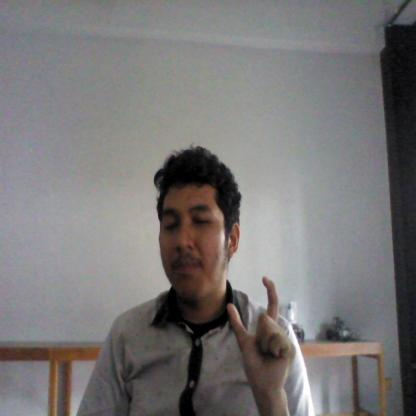U: (226, 276, 298, 393)
